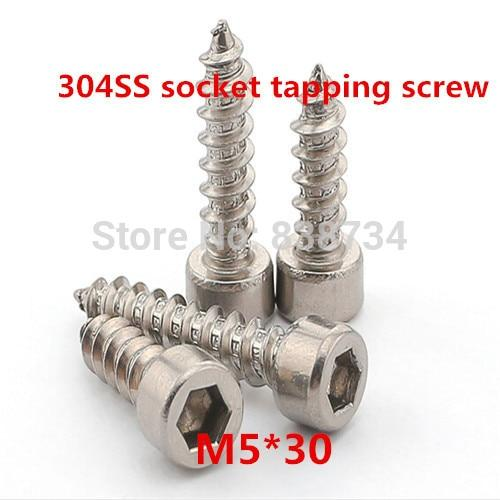Tornillo: (71, 274, 371, 432), (181, 13, 277, 322), (72, 313, 243, 473), (274, 61, 367, 331)
